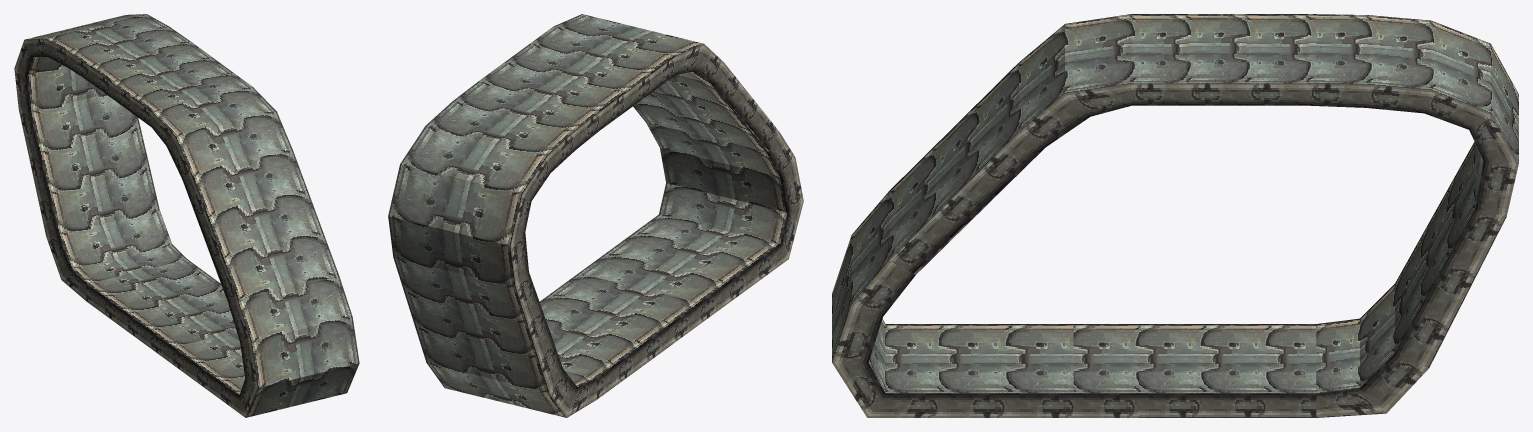
File: VXHTNKH_TRAC_R.obj
The picture shows the model from 3 angles, left to right: view 1: azimuth 30°, elevation 25°; view 2: azimuth 150°, elevation 25°; view 3: azimuth 270°, elevation 25°; orthographic projection. The views are drawn at different scales.
Parts seen in each view (by area): view 1: Node 0; view 2: Node 0; view 3: Node 0.
Boxes of the visible parts, bbox=[...] form: Node 0: bbox=[14, 14, 359, 417]; Node 0: bbox=[388, 14, 803, 417]; Node 0: bbox=[832, 14, 1518, 417].
Size of the model in its own units: 1.36 by 3.04 by 5.66.
1 material, 1 textured.
